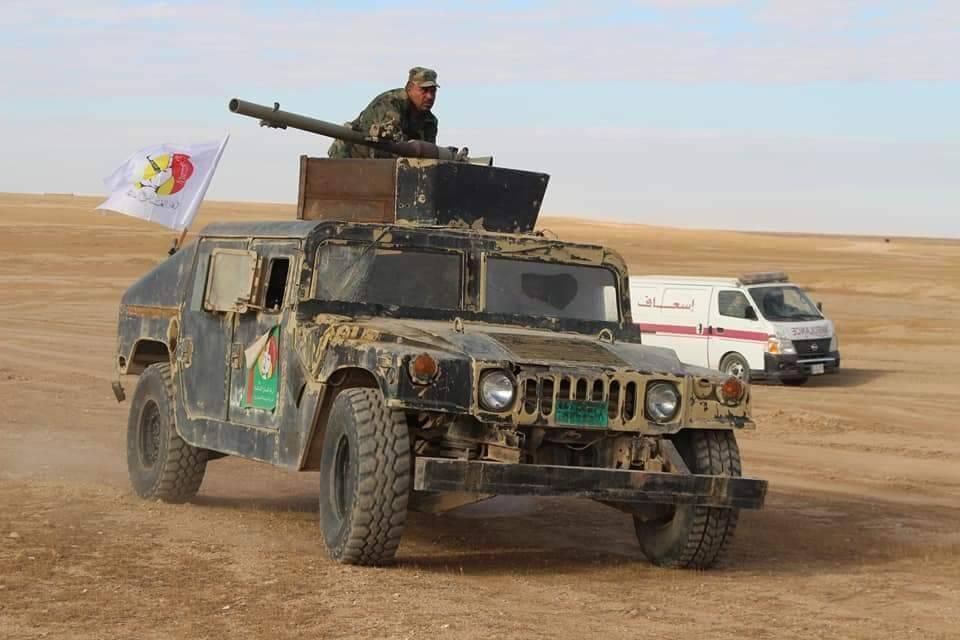armored_car: (109, 155, 769, 574)
car: (601, 260, 840, 388)
